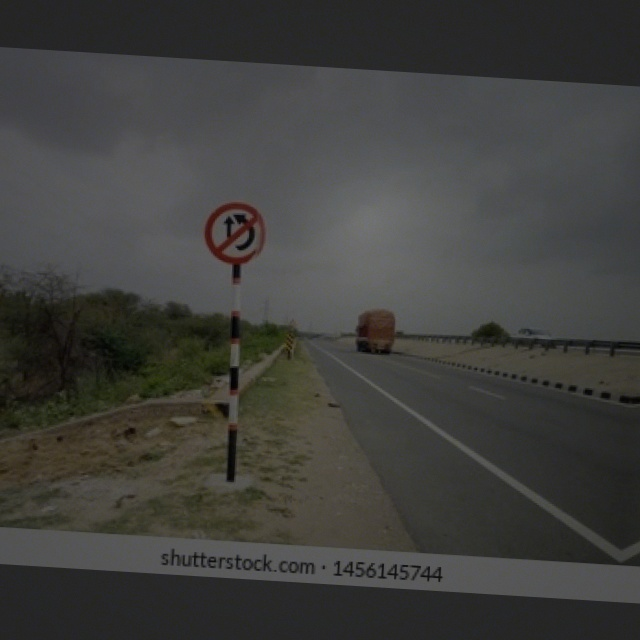Overtaking_Prohibited: (203, 202, 269, 269)
